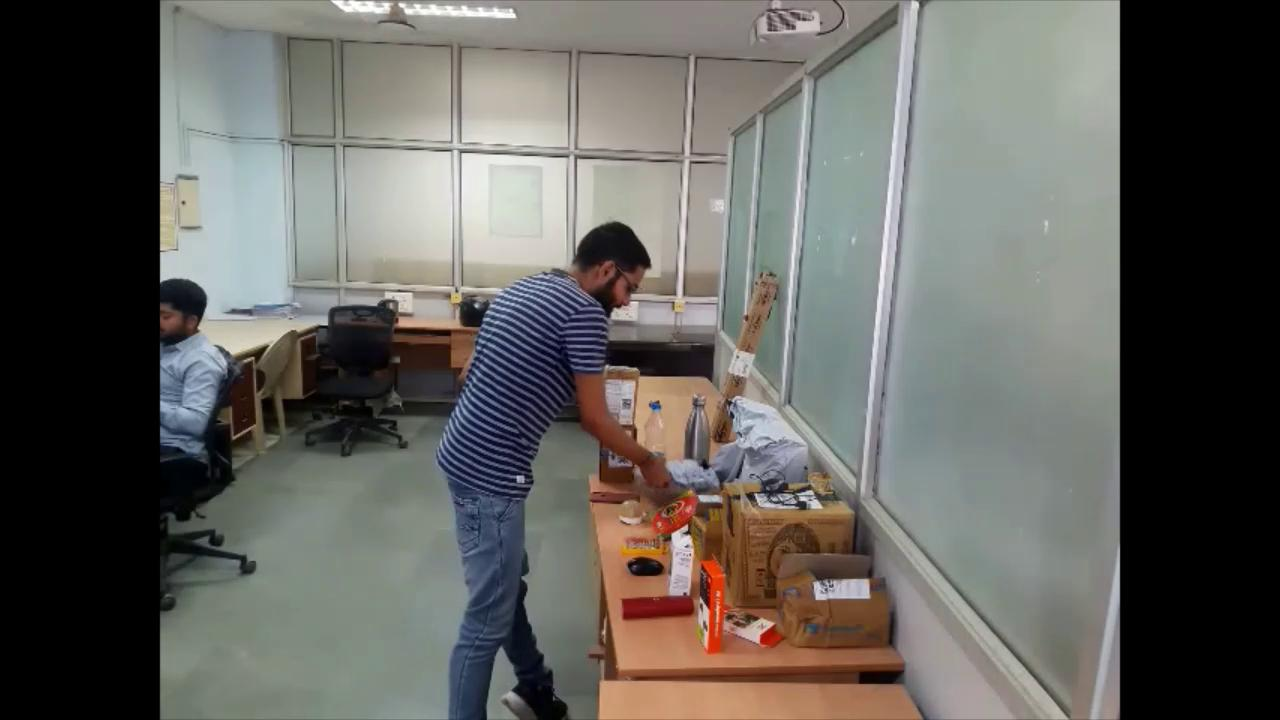Normal: (431, 222, 678, 720)
